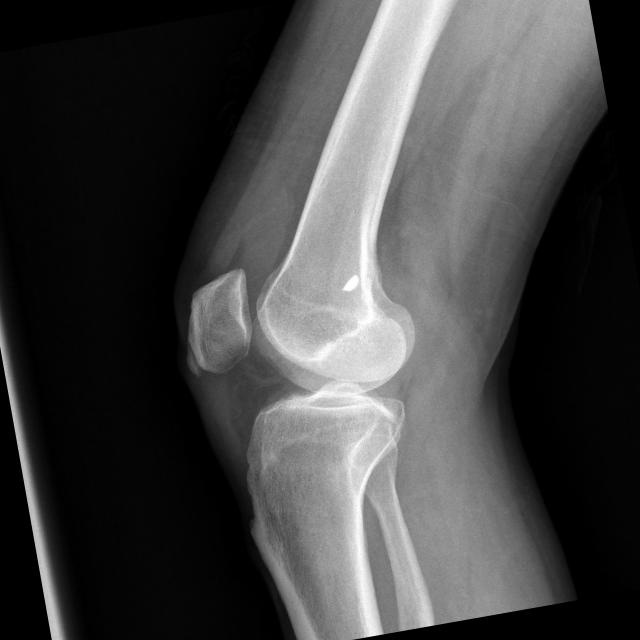Knee: (167, 236, 440, 497)
